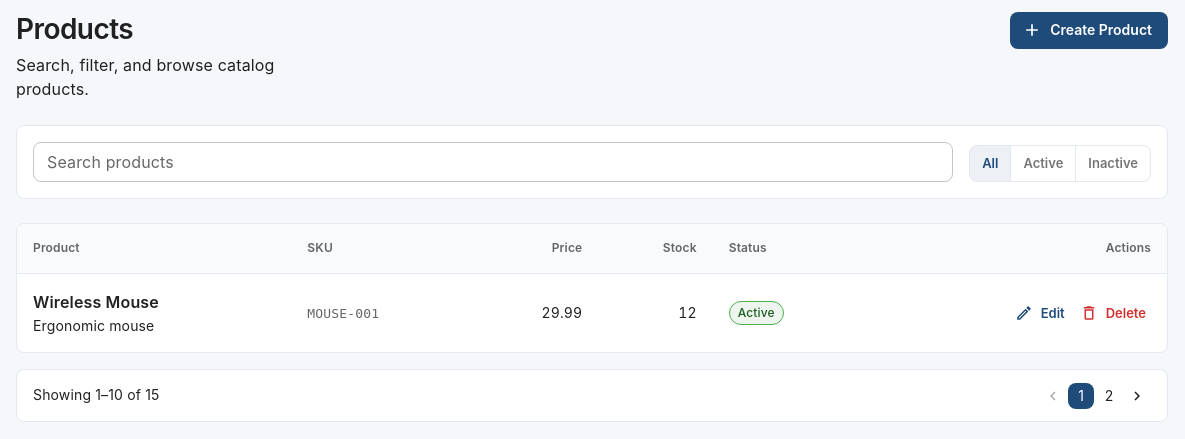
Test: ProductsPage › requests the selected backend page
Check: the text "Wireless Mouse" is shown, box [33,292,159,312]
Check: the text "Showing 1–10 of 15" is shown, box [33,385,160,406]
Click the button named "Go to page 2". click: (1109, 396)
box: [1096,383,1122,409]
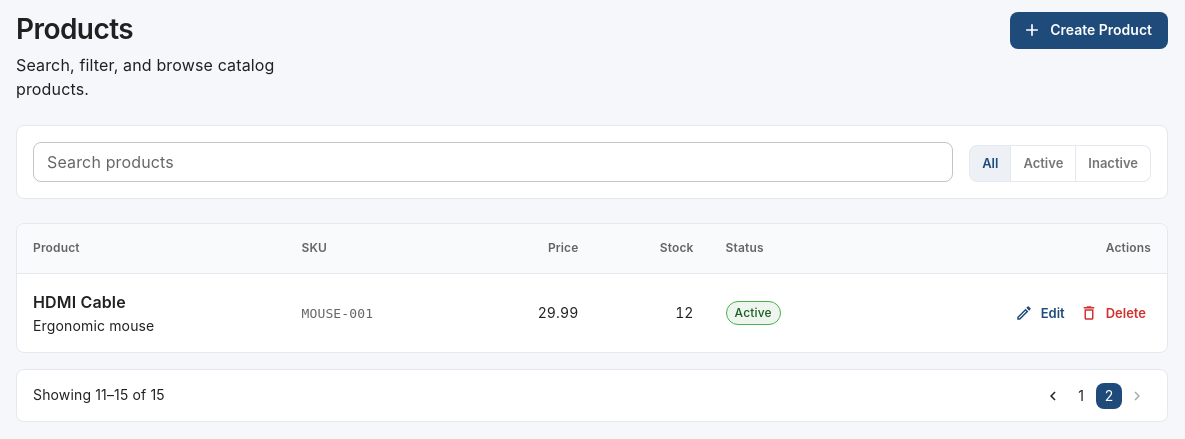
Check: the text "HDMI Cable" is shown, box [33,292,126,312]
Check: the text "Showing 11–15 of 15" is shown, box [33,385,165,406]
